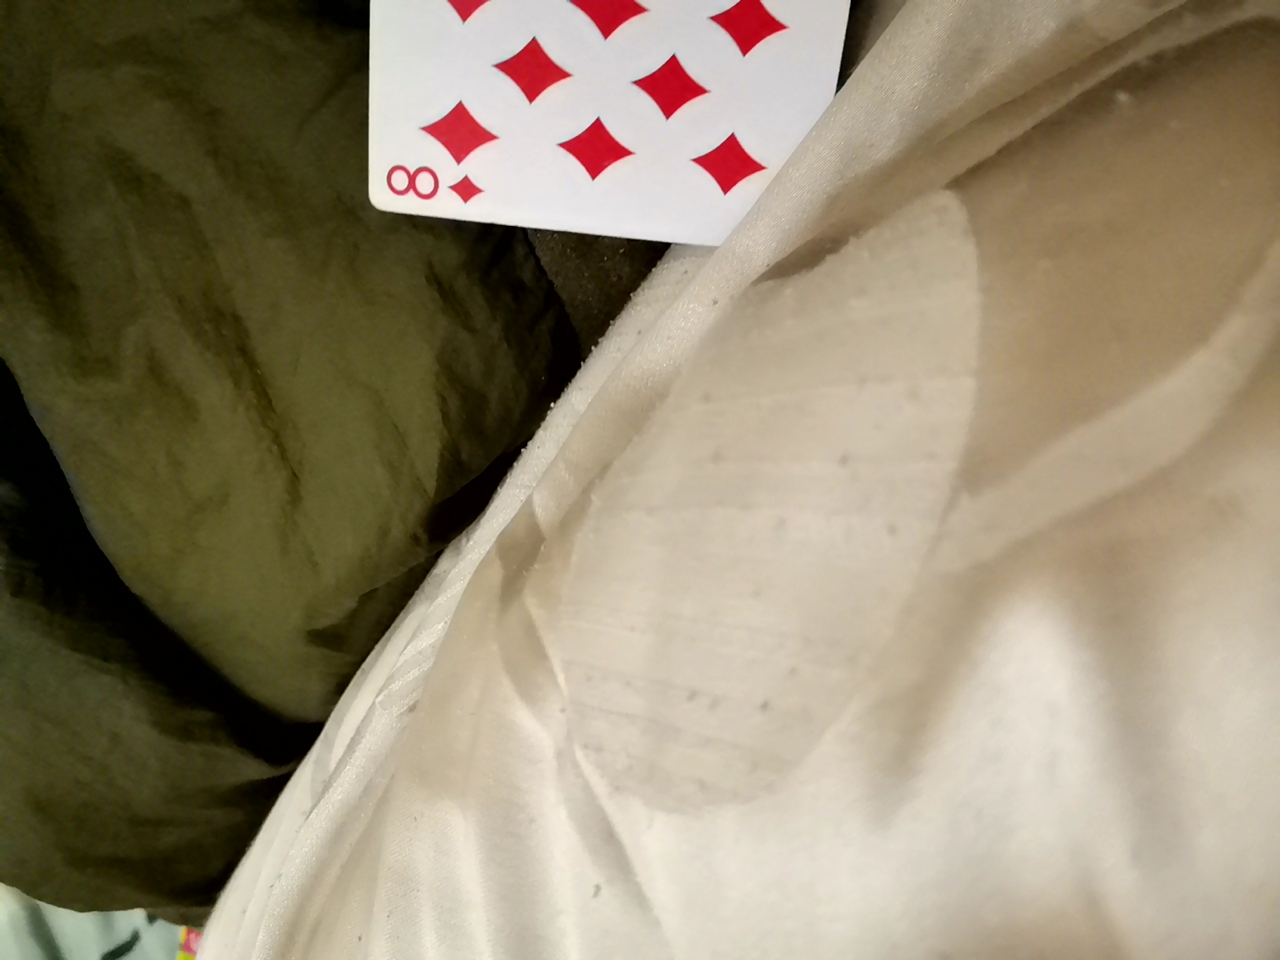fk 8: (289, 0, 809, 269)
